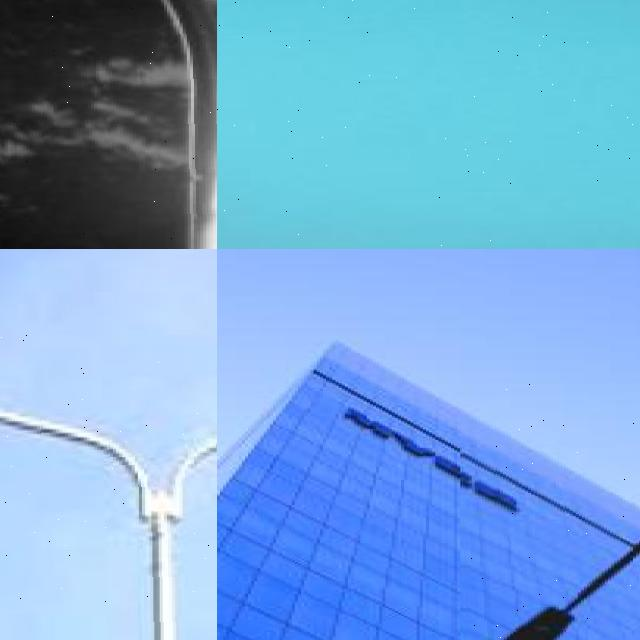street light: (217, 0, 640, 249), (0, 335, 217, 640), (0, 0, 217, 249), (460, 383, 640, 640)
